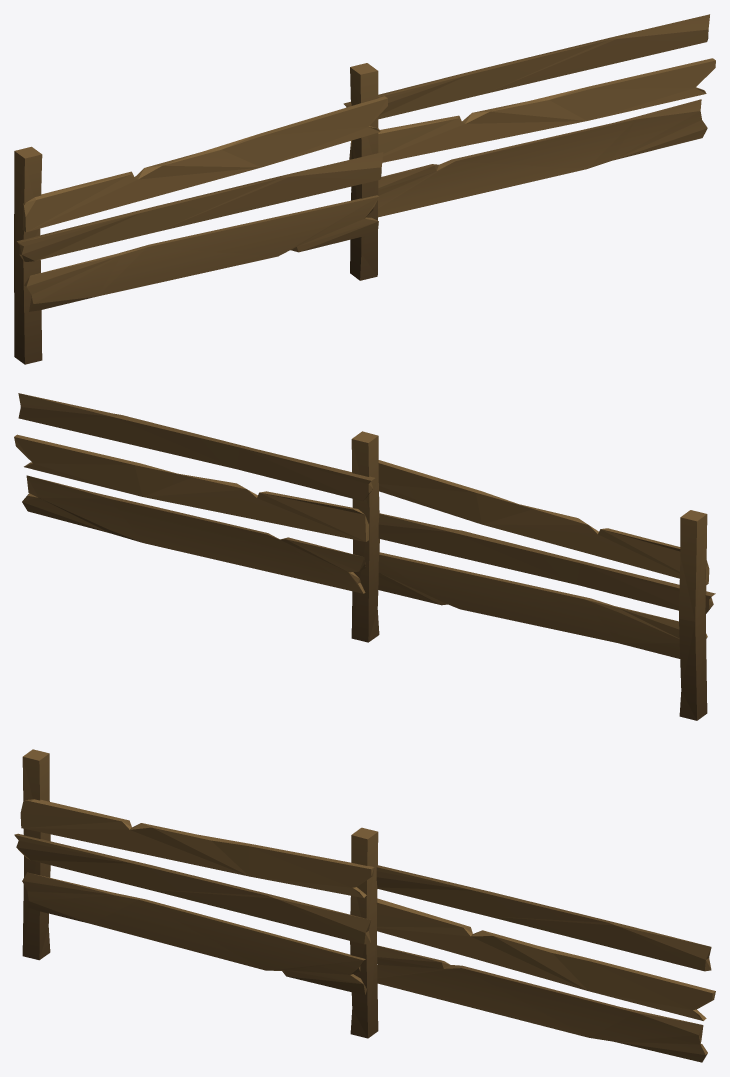
File: Fence_05.fbx
3 renders of one model, top to bottom at view 1: azimuth 30°, elevation 25°; view 2: azimuth 150°, elevation 25°; view 3: azimuth 330°, elevation 25°, orthographic. The views are drawn at different scales.
Visible parts, largest first — view 1: Fence_05; view 2: Fence_05; view 3: Fence_05.
Part boxes in pixels (x1,y1,x2,y2): Fence_05: [14, 14, 715, 364]; Fence_05: [14, 393, 715, 720]; Fence_05: [14, 749, 715, 1062].
Size of the model in its own units: 4.08 by 1.13 by 0.1645.
